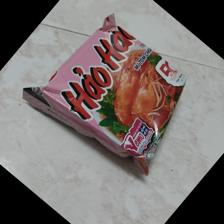Haohao: (18, 12, 188, 175)
